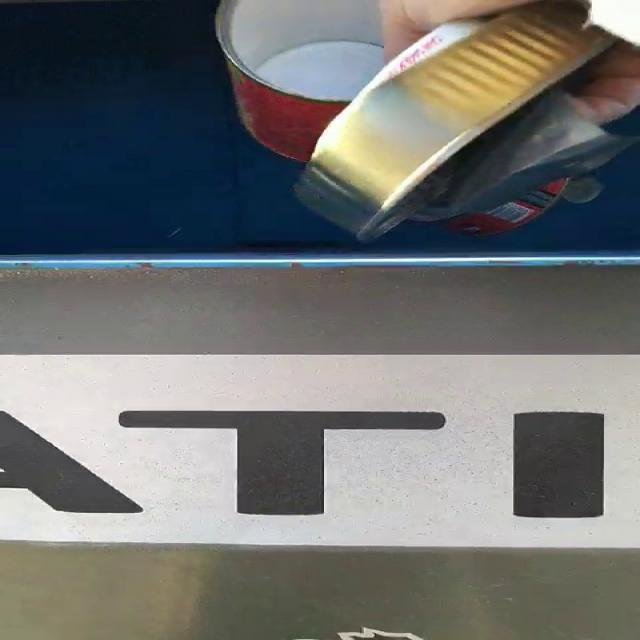Bin: (1, 0, 640, 356), (1, 528, 640, 640)
Metal: (217, 0, 639, 241)
